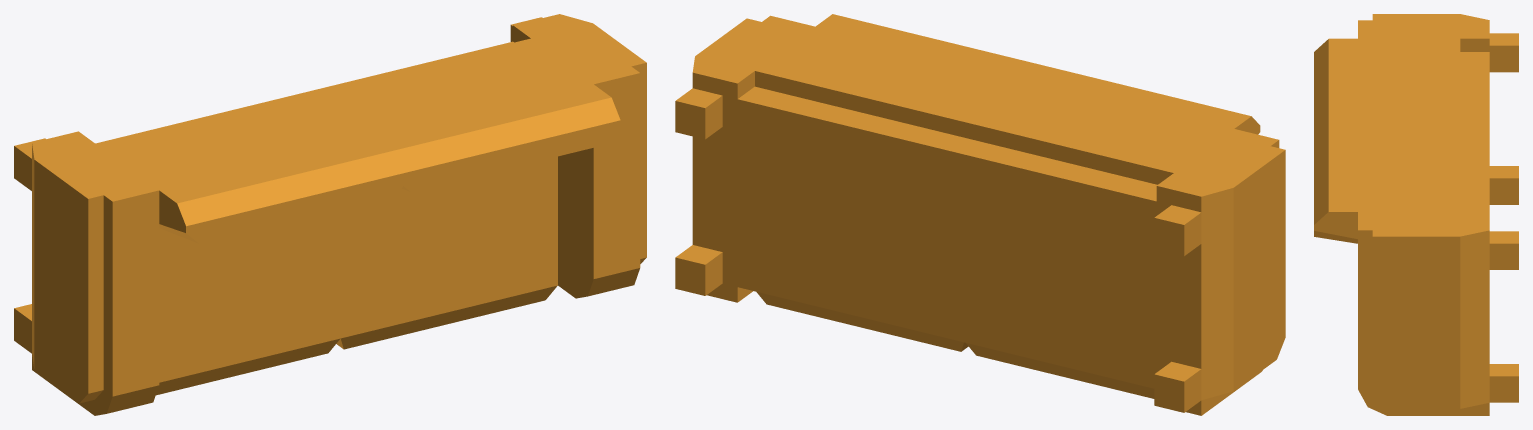
Rendered from prop_sofa_01.glb.
3 renders of one model, left to right at view 1: azimuth 30°, elevation 25°; view 2: azimuth 150°, elevation 25°; view 3: azimuth 270°, elevation 25°, orthographic. The views are drawn at different scales.
Parts seen in each view (by area): view 1: prop_sofa_01; view 2: prop_sofa_01; view 3: prop_sofa_01.
Part boxes in pixels (x1=…): prop_sofa_01: x1=14, y1=14, x2=646, y2=415; prop_sofa_01: x1=675, y1=14, x2=1285, y2=415; prop_sofa_01: x1=1314, y1=14, x2=1518, y2=415.
Bounding box in the file's own units: 144 × 60 × 56.
